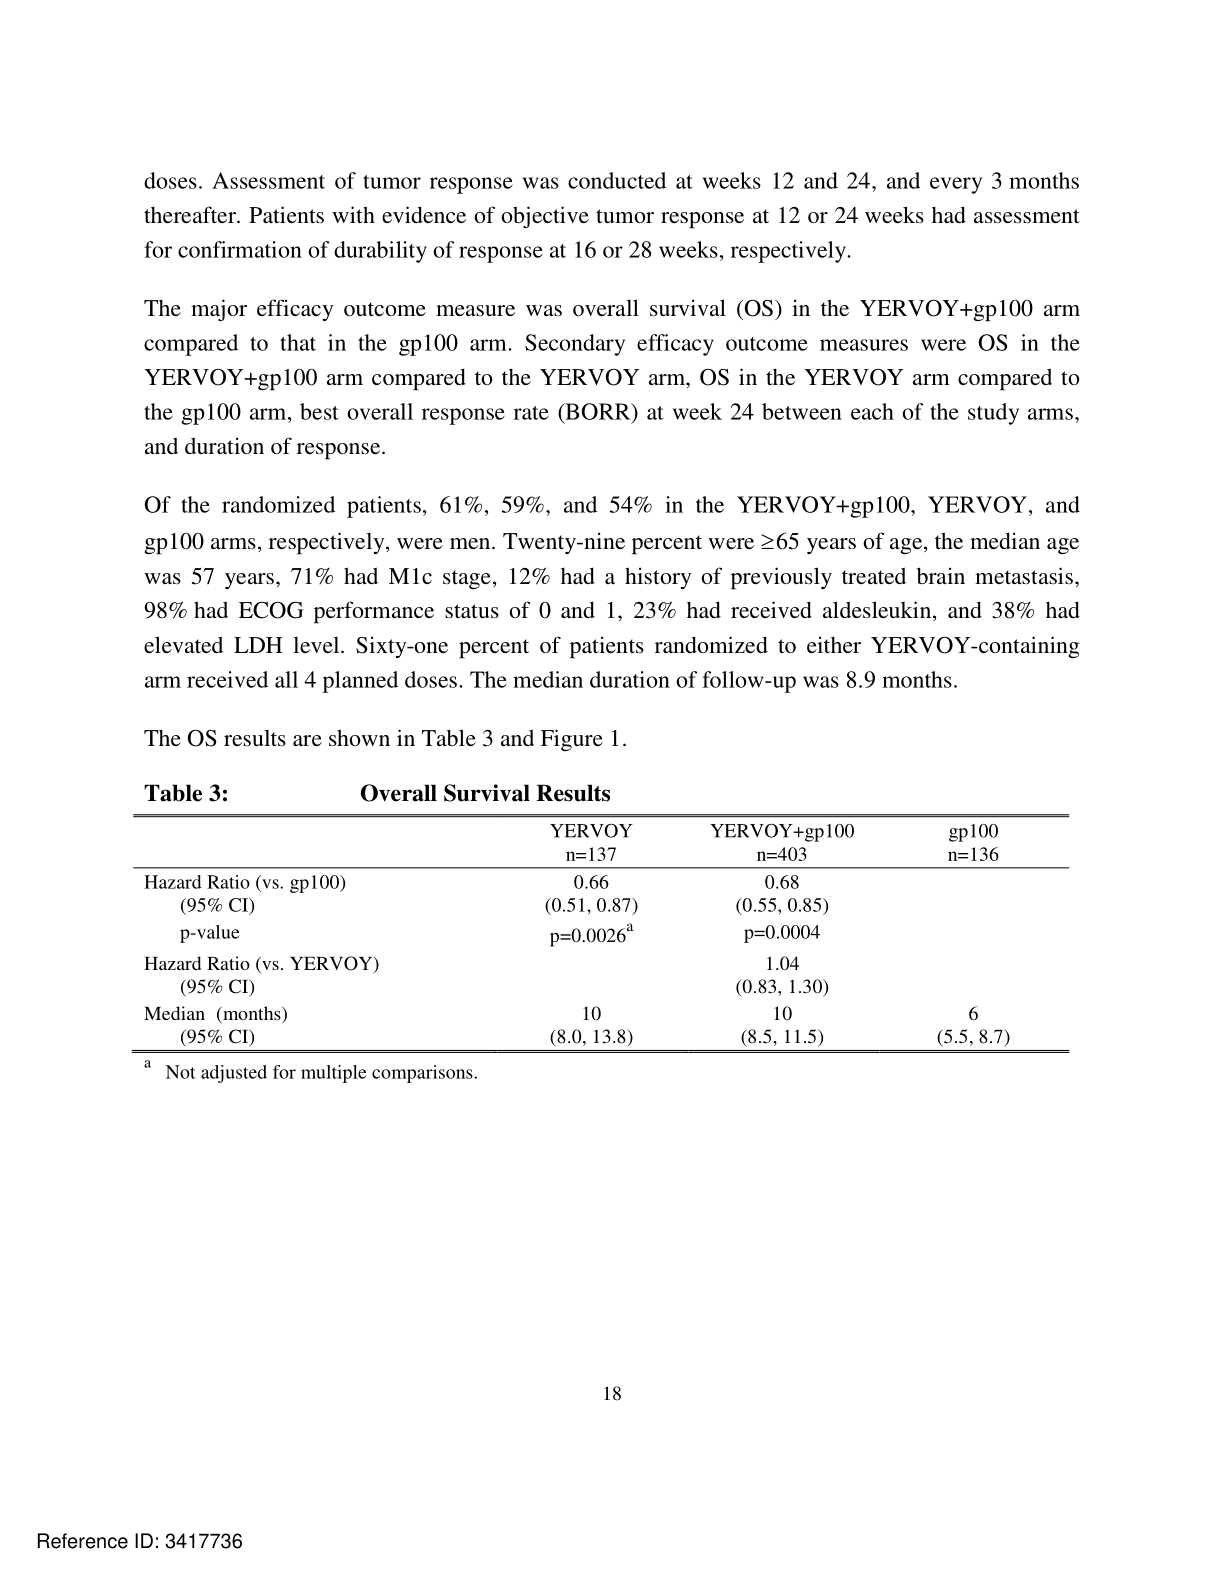partial_lined: (130, 814, 1070, 1054)
